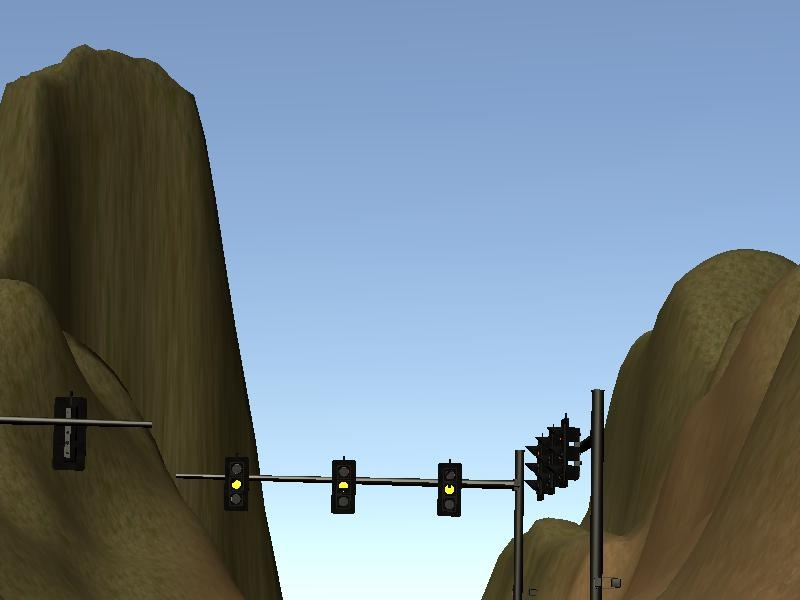yellow: (219, 449, 251, 514), (328, 451, 359, 517), (433, 456, 464, 521)
